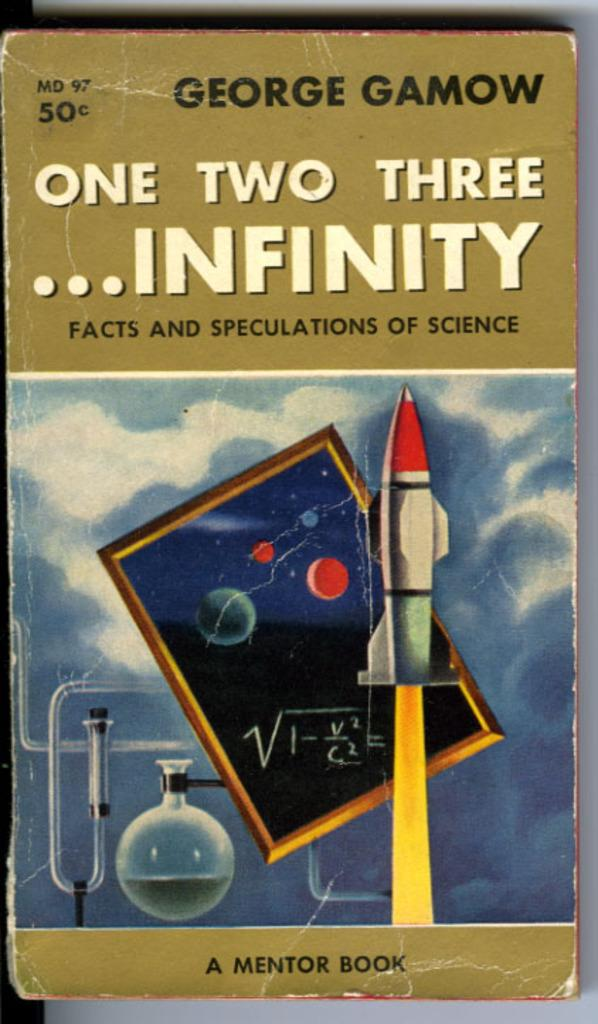Missile: (342, 353, 492, 763)
